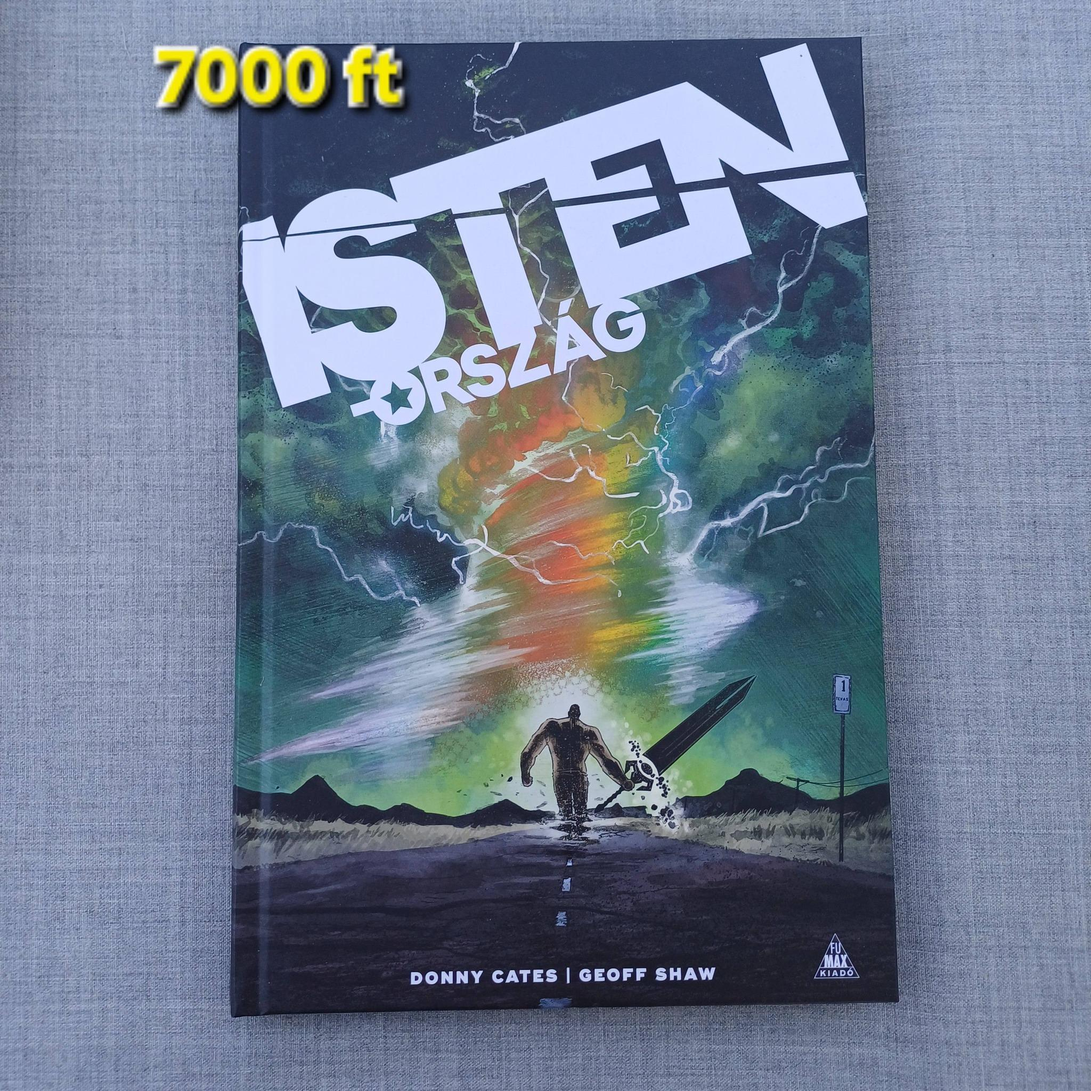comic: (214, 36, 896, 1014)
